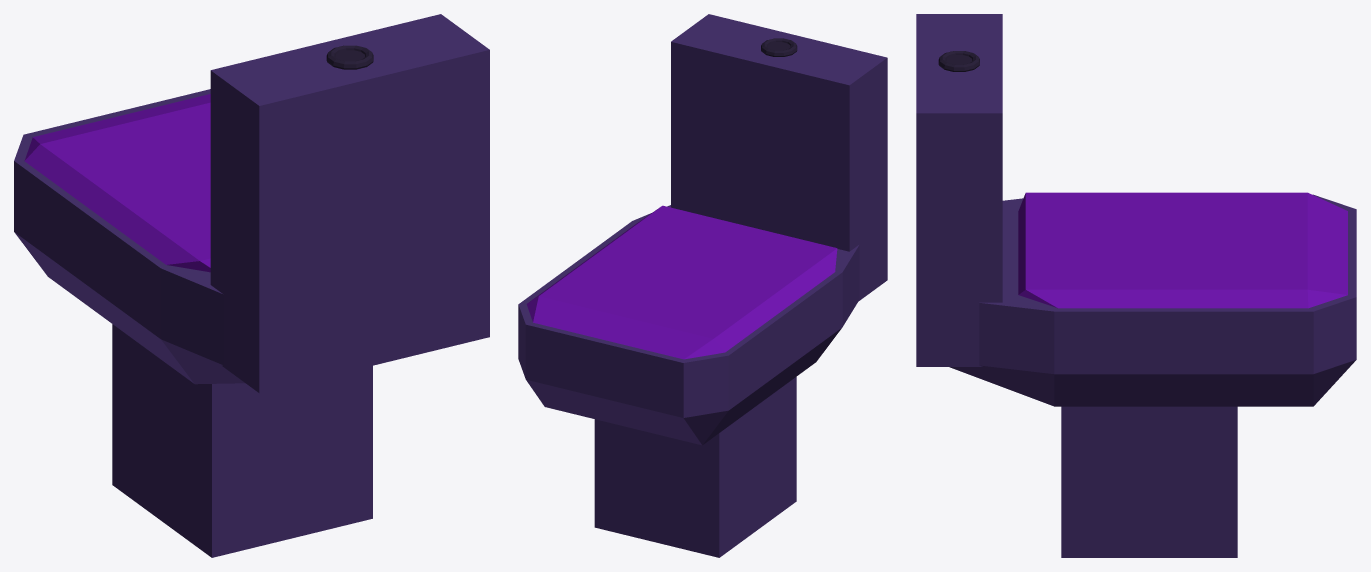
The model's file is privada.gltf.
3 renders of one model, left to right at view 1: azimuth 30°, elevation 25°; view 2: azimuth 150°, elevation 25°; view 3: azimuth 270°, elevation 25°, orthographic. The views are drawn at different scales.
Parts seen in each view (by area): view 1: cuboid (×2), beveled_cuboid (×2), torus; view 2: cuboid (×2), beveled_cuboid (×2); view 3: beveled_cuboid (×2), cuboid (×2), torus.
Boxes of the visible parts, bbox=[...] form: cuboid (×2): bbox=[112, 14, 489, 557]; beveled_cuboid (×2): bbox=[14, 89, 244, 384]; torus: bbox=[326, 45, 373, 69]; cuboid (×2): bbox=[594, 14, 887, 557]; beveled_cuboid (×2): bbox=[518, 205, 859, 445]; beveled_cuboid (×2): bbox=[949, 192, 1356, 406]; cuboid (×2): bbox=[916, 14, 1237, 557]; torus: bbox=[938, 51, 979, 71].
Bounding box in the file's own units: 1 × 1.86 × 1.59.
Materials: 5 (3 with a texture image).
